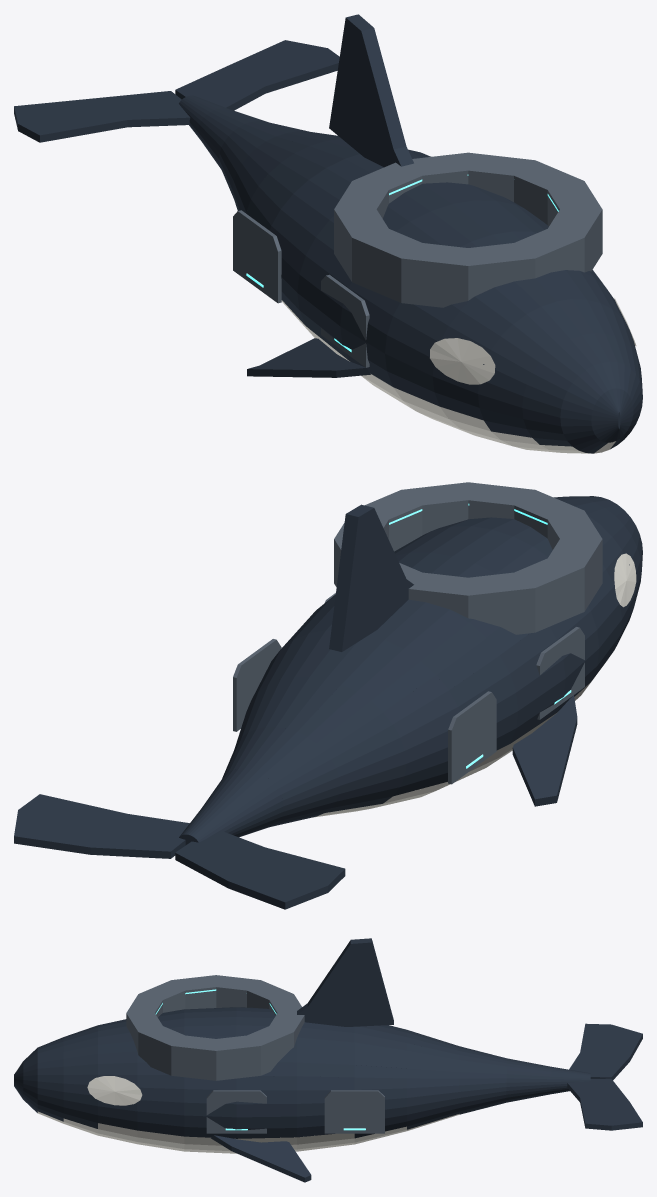
The model's file is subagent_orca.glb.
The picture shows the model from 3 angles, top to bottom: view 1: azimuth 30°, elevation 25°; view 2: azimuth 150°, elevation 25°; view 3: azimuth 270°, elevation 25°; orthographic projection. The views are drawn at different scales.
Parts seen in each view (by area): view 1: subagent_orca__panel_head, subagent_orca__dock_DCI-L_frame, subagent_orca__panel_spine, subagent_orca__panel_tool_left, subagent_orca__dorsal, subagent_orca__fluke_left, subagent_orca__fluke_right, subagent_orca__panel_workshop, subagent_orca__service_hatch__02, subagent_orca__pectoral_left, subagent_orca__eye_patch, subagent_orca__peduncle (+2 smaller); view 2: subagent_orca__panel_spine, subagent_orca__dock_DCI-L_frame, subagent_orca__panel_workshop, subagent_orca__panel_tool_left, subagent_orca__fluke_right, subagent_orca__dorsal, subagent_orca__fluke_left, subagent_orca__peduncle, subagent_orca__pectoral_left, subagent_orca__panel_head, subagent_orca__service_hatch__02, subagent_orca__service_hatch__04 (+3 smaller); view 3: subagent_orca__panel_tool_right, subagent_orca__dock_DCI-L_frame, subagent_orca__panel_head, subagent_orca__panel_spine, subagent_orca__panel_workshop, subagent_orca__dorsal, subagent_orca__panel_belly, subagent_orca__fluke_left, subagent_orca__fluke_right, subagent_orca__service_hatch__04, subagent_orca__peduncle, subagent_orca__pectoral_right (+2 smaller).
Boxes of the visible parts, x1,y1,x2,y2 form: subagent_orca__panel_head: (432, 270, 642, 453); subagent_orca__dock_DCI-L_frame: (334, 152, 602, 307); subagent_orca__panel_spine: (269, 131, 605, 325); subagent_orca__panel_tool_left: (246, 174, 448, 406); subagent_orca__dorsal: (329, 14, 413, 167); subagent_orca__fluke_left: (14, 91, 190, 142); subagent_orca__fluke_right: (175, 40, 339, 110); subagent_orca__panel_workshop: (219, 121, 340, 213); subagent_orca__service_hatch__02: (233, 210, 281, 303); subagent_orca__pectoral_left: (247, 338, 370, 377); subagent_orca__eye_patch: (430, 338, 495, 384); subagent_orca__peduncle: (179, 95, 266, 169); subagent_orca__panel_spine: (269, 517, 605, 731); subagent_orca__dock_DCI-L_frame: (334, 482, 602, 634); subagent_orca__panel_workshop: (222, 676, 406, 826); subagent_orca__panel_tool_left: (383, 569, 621, 796); subagent_orca__fluke_right: (14, 794, 189, 858); subagent_orca__dorsal: (329, 504, 413, 651); subagent_orca__fluke_left: (175, 831, 345, 909); subagent_orca__peduncle: (179, 768, 283, 845); subagent_orca__pectoral_left: (512, 695, 577, 806); subagent_orca__panel_head: (554, 496, 642, 647); subagent_orca__service_hatch__02: (448, 691, 496, 784); subagent_orca__service_hatch__04: (233, 639, 281, 731); subagent_orca__panel_tool_right: (137, 1065, 406, 1138); subagent_orca__dock_DCI-L_frame: (126, 975, 304, 1080); subagent_orca__panel_head: (14, 1019, 137, 1143); subagent_orca__panel_spine: (137, 1007, 459, 1077); subagent_orca__panel_workshop: (407, 1030, 506, 1129); subagent_orca__dorsal: (297, 938, 393, 1026); subagent_orca__panel_belly: (137, 1114, 459, 1153); subagent_orca__fluke_left: (569, 1023, 642, 1079); subagent_orca__fluke_right: (567, 1078, 642, 1130); subagent_orca__service_hatch__04: (324, 1090, 384, 1133); subagent_orca__peduncle: (506, 1058, 590, 1102); subagent_orca__pectoral_right: (211, 1135, 311, 1182).
Bounding box in the file's own units: 1.6 × 1.5 × 4.2.
